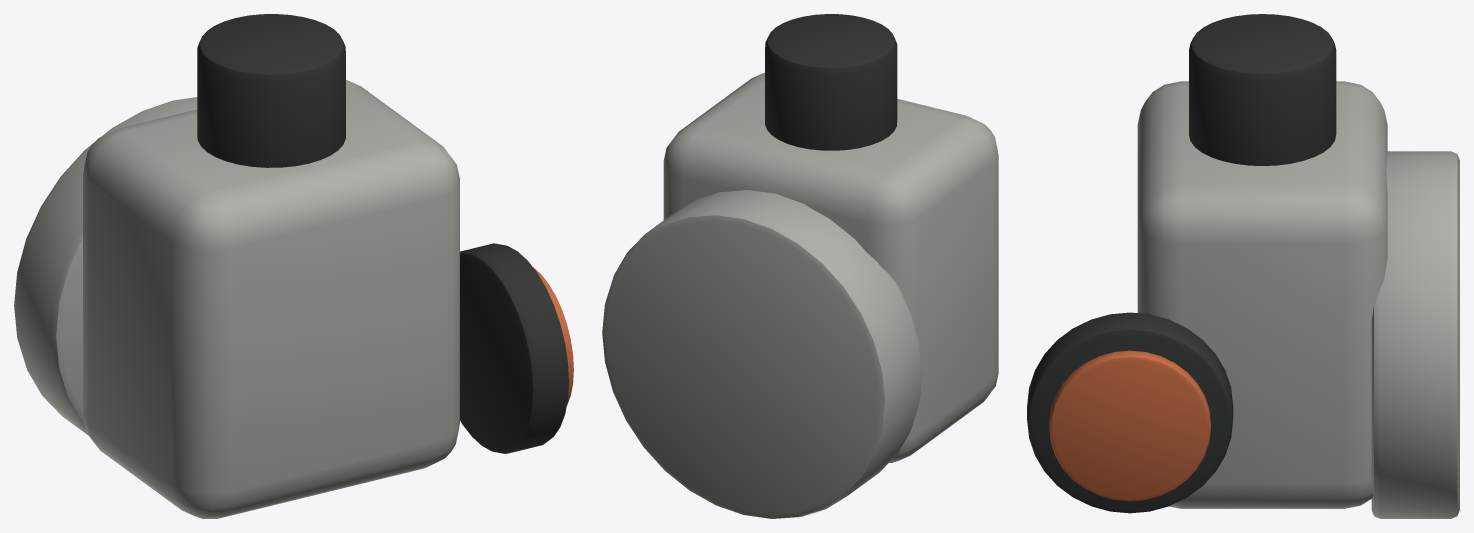
Rendered from six_axis_welding_robot_turret.glb.
The picture shows the model from 3 angles, left to right: view 1: azimuth 30°, elevation 25°; view 2: azimuth 150°, elevation 25°; view 3: azimuth 270°, elevation 25°; orthographic projection. The views are drawn at different scales.
Parts seen in each view (by area): view 1: six_axis_welding_robot_turret; view 2: six_axis_welding_robot_turret; view 3: six_axis_welding_robot_turret.
Part boxes in pixels (x1,y1,x2,y2): six_axis_welding_robot_turret: (14, 14, 573, 518); six_axis_welding_robot_turret: (602, 14, 998, 518); six_axis_welding_robot_turret: (1027, 14, 1459, 518).
Bounding box in the file's own units: 0.277 × 0.345 × 0.294.
